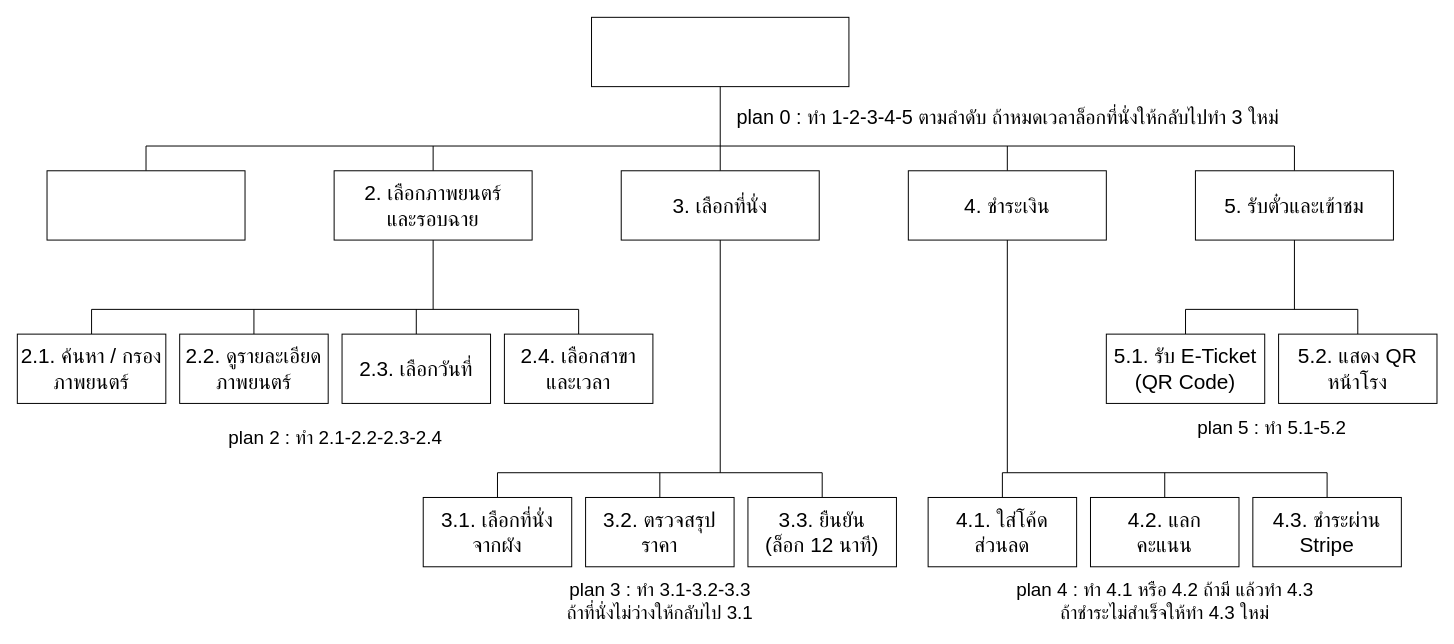
Image size: 1454x644. Some labels were removed from this diagram. The shapes that lost their labels are listed below. From the top down, each one's box as (x1, y1, x2, y2) in pixels, then its label:
(591, 16, 849, 87): 0. ซื้อตั๋วภาพยนตร์ออนไลน์
(46, 170, 245, 240): 1. เข้าสู่ระบบ / สมัครสมาชิก
